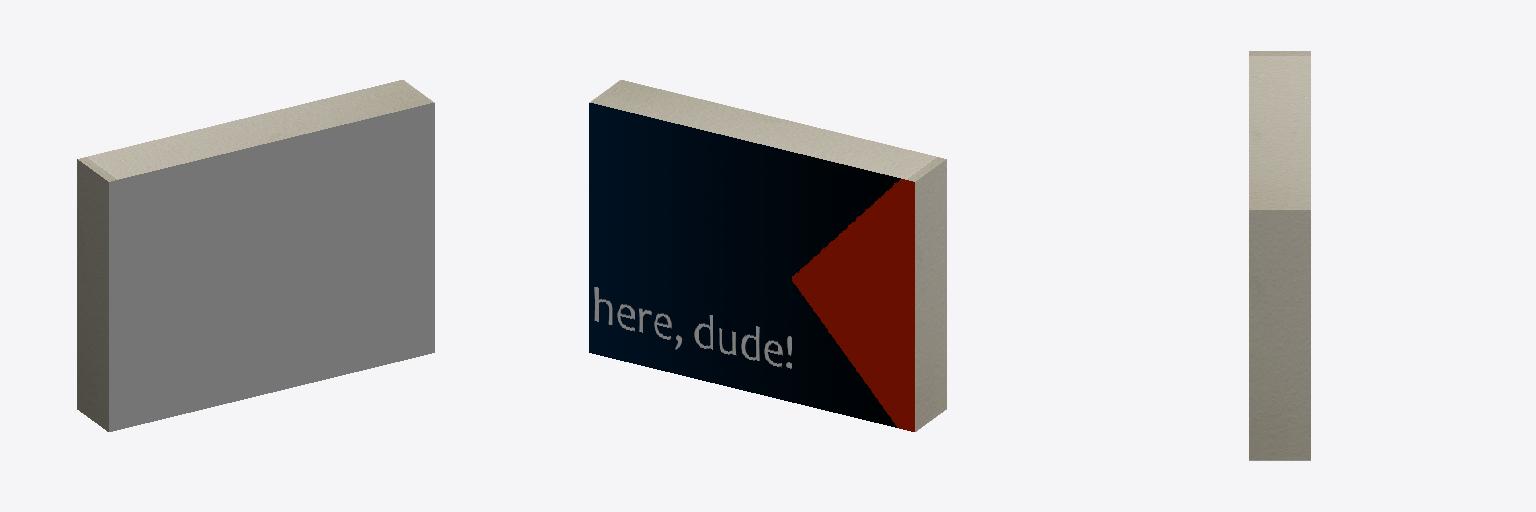
3 renders of one model, left to right at view 1: azimuth 30°, elevation 25°; view 2: azimuth 150°, elevation 25°; view 3: azimuth 270°, elevation 25°, orthographic.
Visible parts, largest first — view 1: Cube.004_Cube.014; view 2: Cube.004_Cube.014; view 3: Cube.004_Cube.014.
Part boxes in pixels (left/top/right/bottom): Cube.004_Cube.014: left=77, top=80, right=434, bottom=431; Cube.004_Cube.014: left=589, top=80, right=946, bottom=431; Cube.004_Cube.014: left=1249, top=51, right=1310, bottom=460.
Bounding box in the file's own units: 24 × 17.63 × 4.
3 materials, 2 textured.